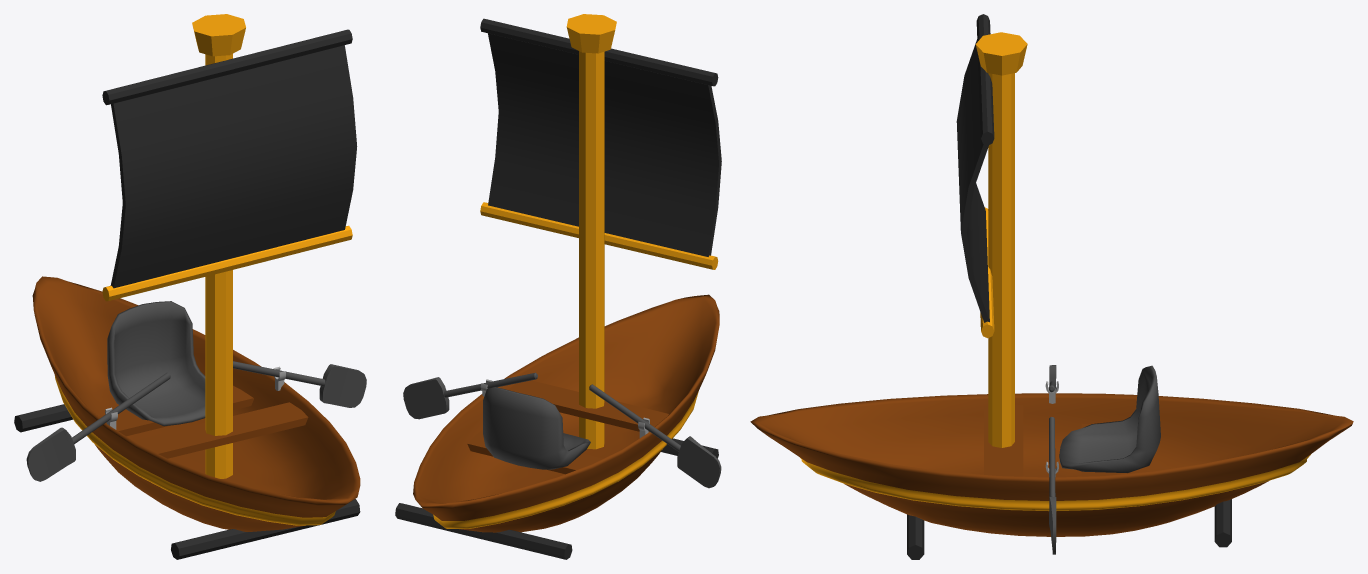
File: Pirate_Speedboat.fbx
3 views of the same model, side by side, from view 1: azimuth 30°, elevation 25°; view 2: azimuth 150°, elevation 25°; view 3: azimuth 270°, elevation 25° (orthographic). The views are drawn at different scales.
Parts seen in each view (by area): view 1: Pirate_Speedboat_Body; view 2: Pirate_Speedboat_Body; view 3: Pirate_Speedboat_Body.
Boxes of the visible parts, x1,y1,x2,y2 form: Pirate_Speedboat_Body: (14, 14, 366, 559); Pirate_Speedboat_Body: (395, 14, 721, 559); Pirate_Speedboat_Body: (750, 14, 1353, 559).
Bounding box in the file's own units: 133 × 183 × 209.
